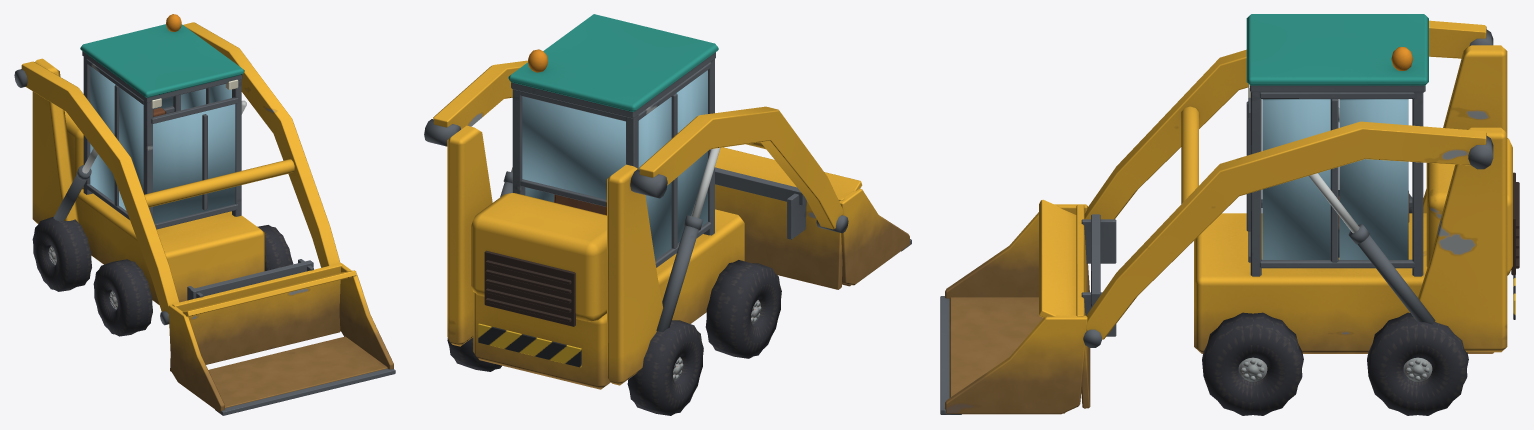
File: Works_SkidLoader.fbx
3 renders of one model, left to right at view 1: azimuth 30°, elevation 25°; view 2: azimuth 150°, elevation 25°; view 3: azimuth 270°, elevation 25°, orthographic. The views are drawn at different scales.
Visible parts, largest first — view 1: Body, Bucket, Arms; view 2: Body, Arms, Bucket; view 3: Body, Arms, Bucket.
Boxes of the visible parts, x1,y1,x2,y2 form: Body: [32, 14, 293, 336]; Bucket: [168, 259, 395, 415]; Arms: [14, 22, 340, 325]; Body: [447, 14, 781, 415]; Arms: [424, 60, 848, 332]; Bucket: [715, 147, 911, 289]; Body: [1194, 14, 1519, 415]; Arms: [1083, 20, 1493, 347]; Bucket: [940, 199, 1116, 414].
Size of the model in its own units: 1.8 by 2.39 by 3.69.
1 material, 1 textured.
